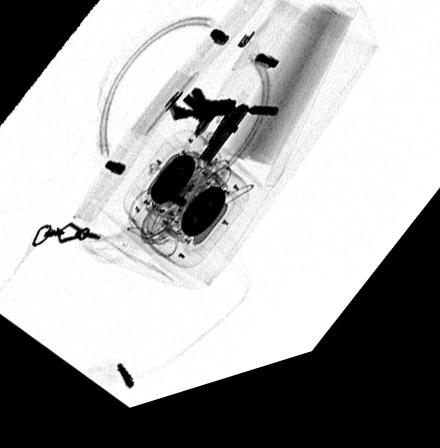Gun: (172, 99, 279, 136)
